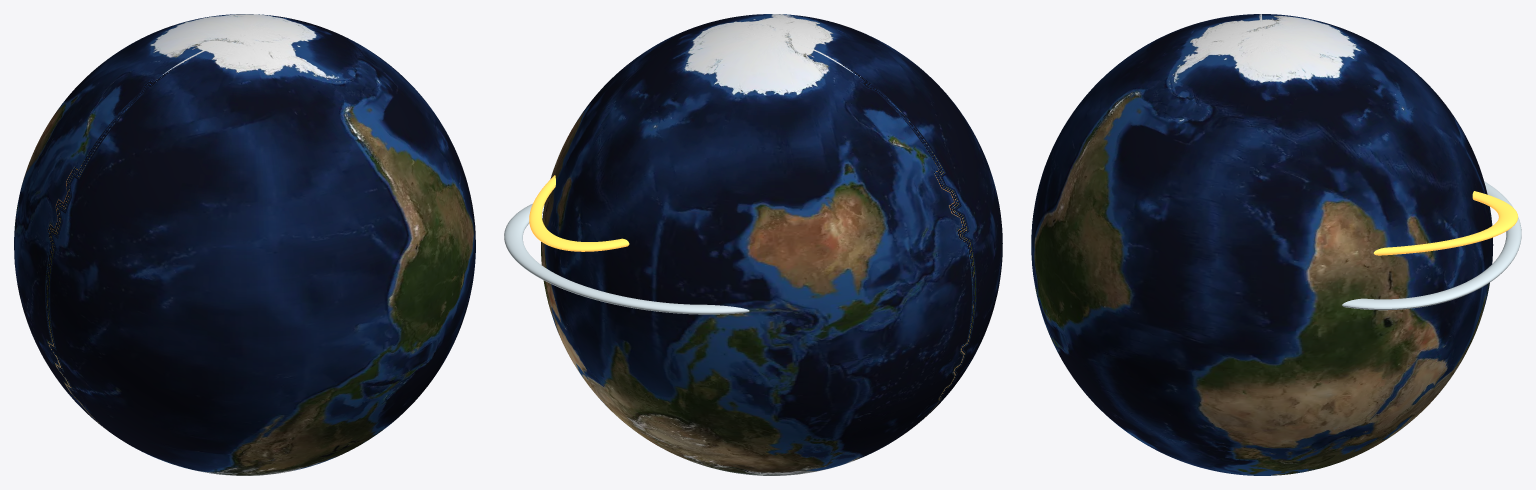
File: ocean-currents.glb
The picture shows the model from 3 angles, left to right: view 1: azimuth 30°, elevation 25°; view 2: azimuth 150°, elevation 25°; view 3: azimuth 270°, elevation 25°; orthographic projection.
Parts seen in each view (by area): view 1: Current_Earth; view 2: Current_Earth, Current_Canary, Current_GulfStream; view 3: Current_Earth, Current_Canary, Current_GulfStream.
Part boxes in pixels (left/top/right/bottom): Current_Earth: left=14, top=14, right=475, bottom=475; Current_Earth: left=541, top=14, right=1002, bottom=475; Current_Canary: left=504, top=203, right=749, bottom=314; Current_GulfStream: left=529, top=175, right=629, bottom=251; Current_Earth: left=1031, top=14, right=1493, bottom=475; Current_Canary: left=1342, top=181, right=1521, bottom=310; Current_GulfStream: left=1373, top=191, right=1518, bottom=255.
Size of the model in its own units: 2.1 by 2.1 by 2.23.
3 materials, 1 textured.
